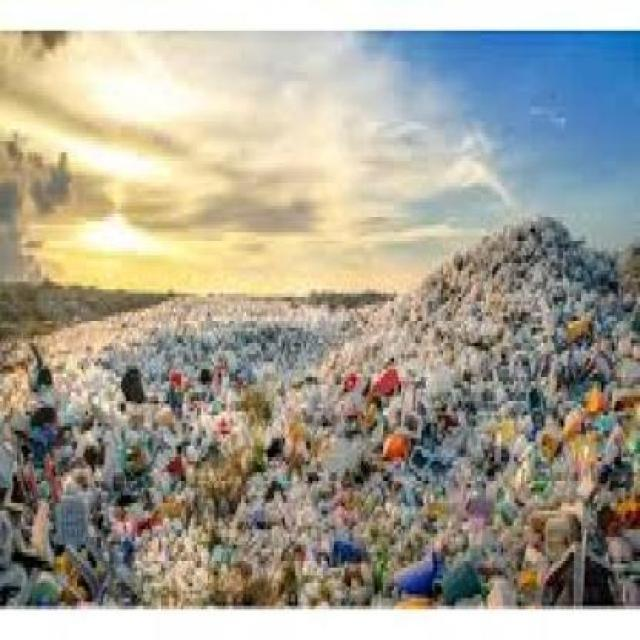garbage: (0, 289, 638, 602), (399, 199, 639, 286)
